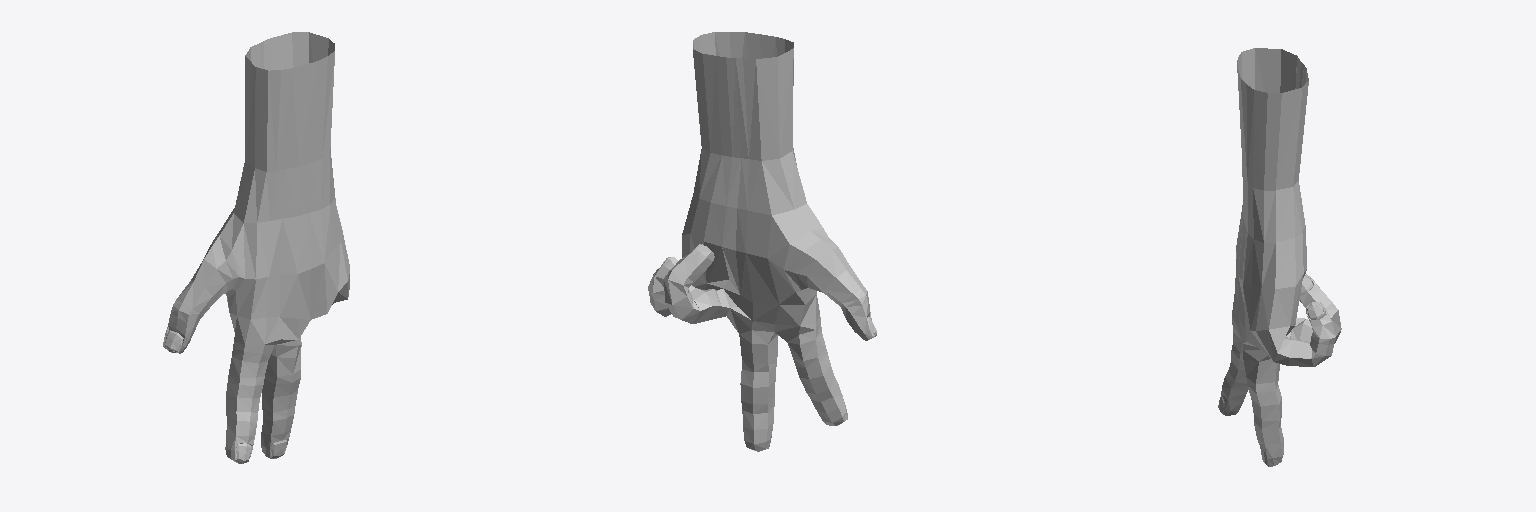
File: handAnimated4_000032.obj
3 views of the same model, side by side, from view 1: azimuth 30°, elevation 25°; view 2: azimuth 150°, elevation 25°; view 3: azimuth 270°, elevation 25° (orthographic).
Visible parts, largest first — view 1: Cube.000_Cube.017_Detached_Detached; view 2: Cube.000_Cube.017_Detached_Detached; view 3: Cube.000_Cube.017_Detached_Detached.
Boxes of the visible parts, x1=… form: Cube.000_Cube.017_Detached_Detached: x1=163, y1=32, x2=349, y2=463; Cube.000_Cube.017_Detached_Detached: x1=648, y1=32, x2=876, y2=451; Cube.000_Cube.017_Detached_Detached: x1=1218, y1=48, x2=1341, y2=466.
Size of the model in its own units: 0.69 by 1.34 by 0.3722.